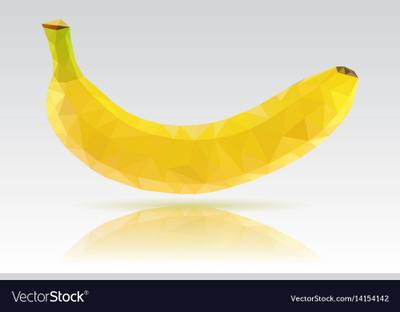banana: (0, 0, 400, 312)
